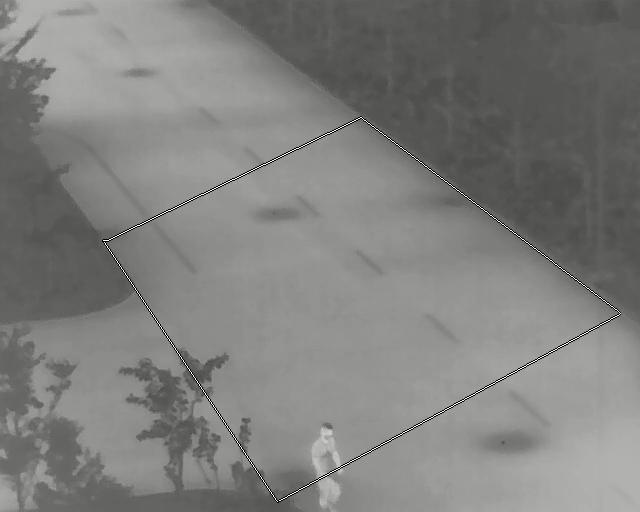person: (310, 421, 343, 509)
